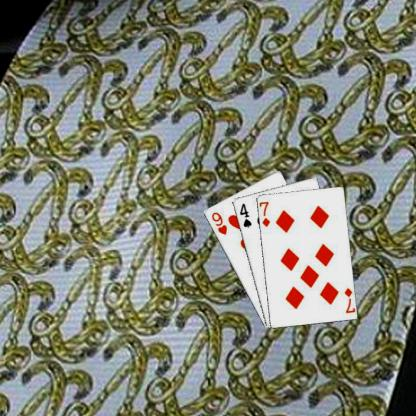4S: (237, 200, 252, 229)
7D: (258, 199, 270, 228), (342, 285, 354, 314)
9H: (209, 209, 228, 236)
